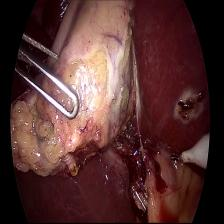Grasper: (11, 31, 90, 120)
Hook: (168, 127, 210, 181)
